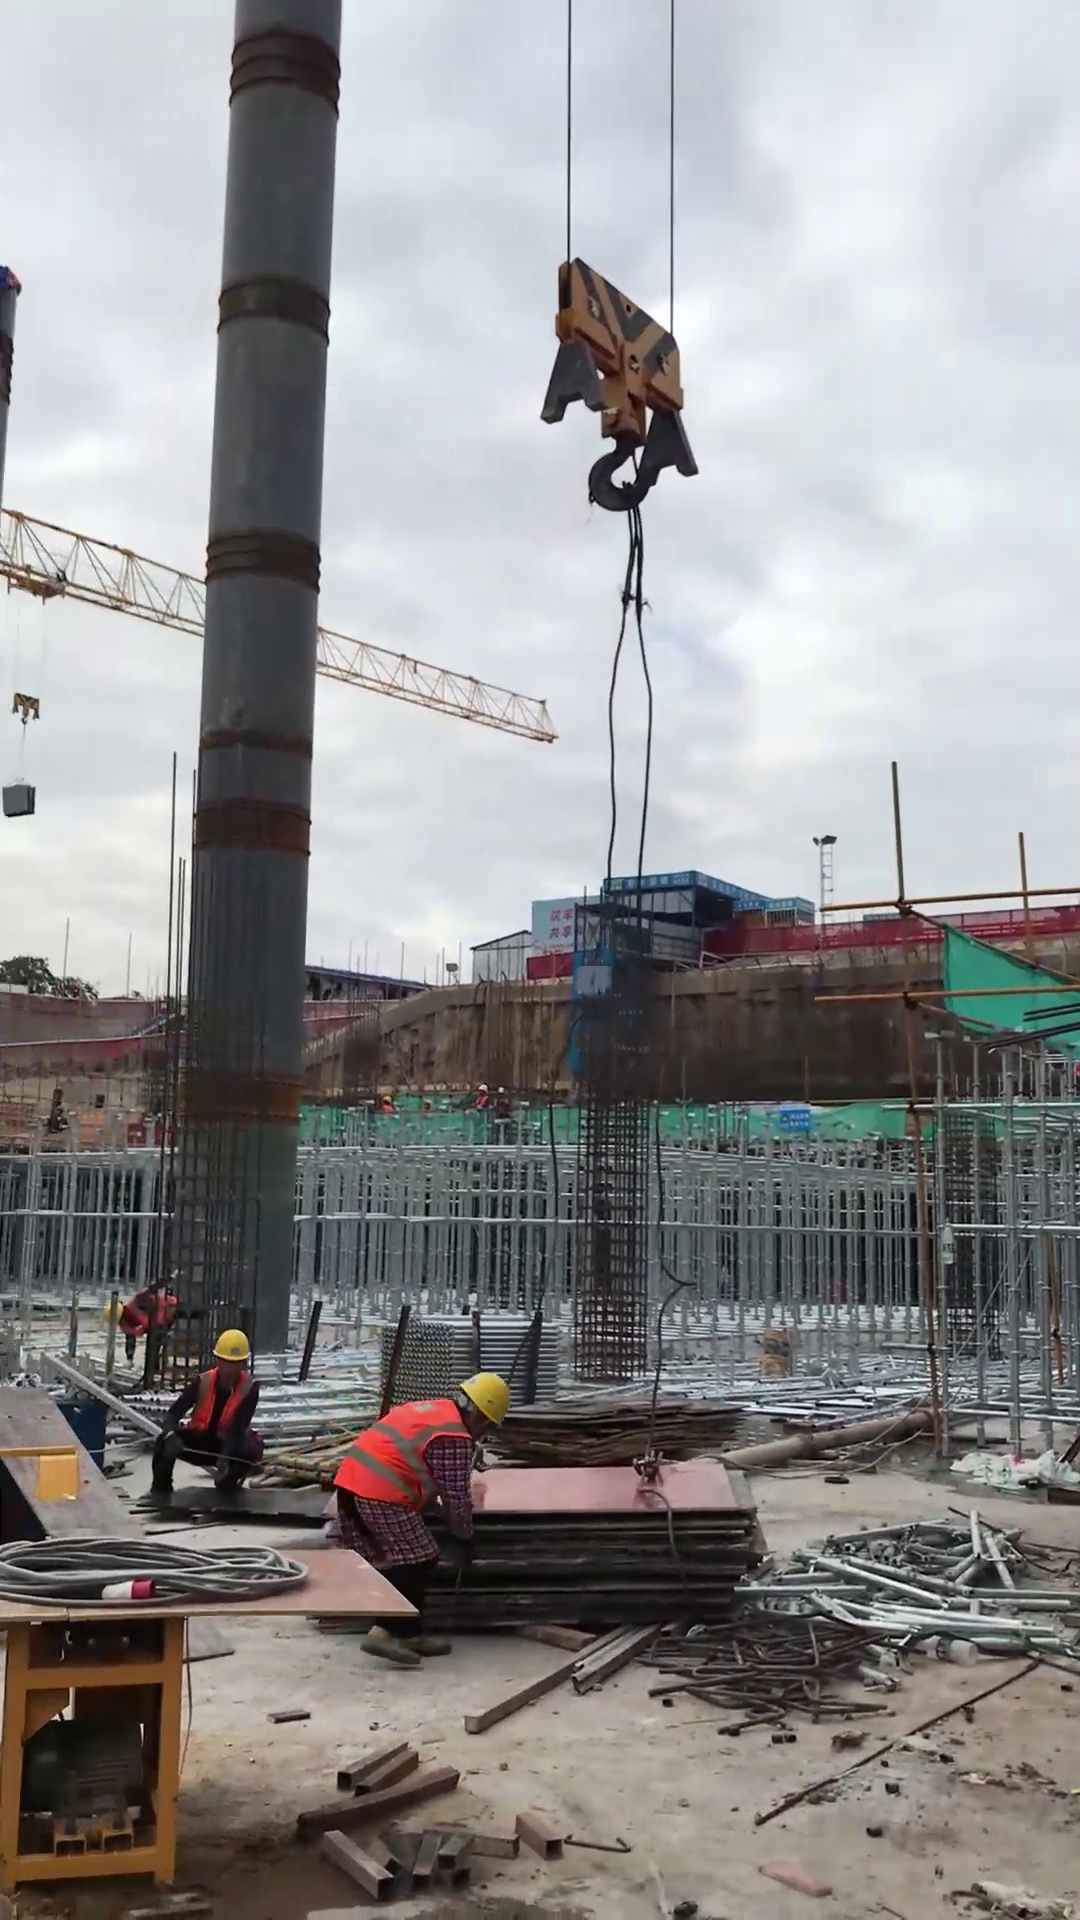board: (299, 1451, 776, 1653), (504, 1372, 759, 1470)
cutter: (1, 1527, 366, 1898)
fence: (742, 894, 1078, 965)
helmet: (460, 1368, 513, 1435), (203, 1326, 262, 1369), (99, 1298, 126, 1331)
hook: (542, 251, 709, 520), (6, 694, 47, 732)
person: (324, 1369, 521, 1679), (142, 1323, 281, 1521), (105, 1276, 187, 1398)
scaffold: (368, 1301, 561, 1410)
vest: (326, 1394, 470, 1515), (179, 1366, 266, 1445), (136, 1290, 182, 1334)
